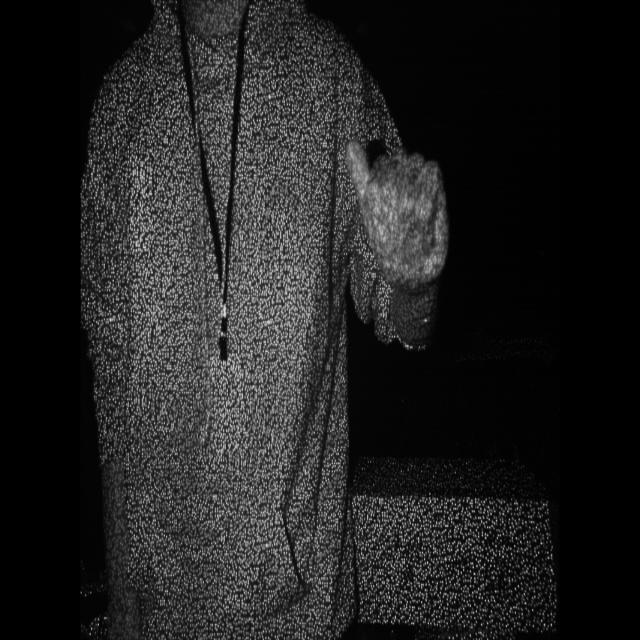A: (342, 137, 489, 361)
